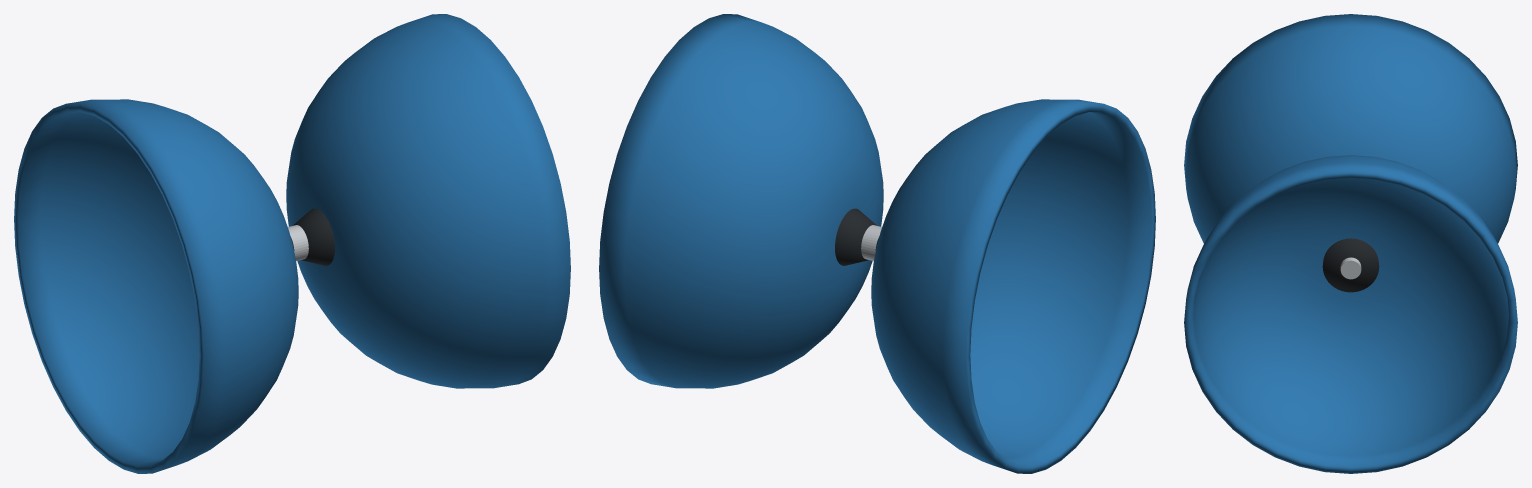
The model's file is full.glb.
The picture shows the model from 3 angles, left to right: view 1: azimuth 30°, elevation 25°; view 2: azimuth 150°, elevation 25°; view 3: azimuth 270°, elevation 25°; orthographic projection. The views are drawn at different scales.
Visible parts, largest first — view 1: Left hollow outward cup, Right hollow outward cup, Right conical hub; view 2: Left hollow outward cup, Right hollow outward cup, Right conical hub; view 3: Right hollow outward cup, Left hollow outward cup, Right conical hub, Continuous central axle.
Part boxes in pixels (x1,y1,x2,y2): Left hollow outward cup: (14,99,298,473); Right hollow outward cup: (286,14,570,388); Right conical hub: (293,208,334,265); Left hollow outward cup: (871,99,1155,473); Right hollow outward cup: (599,14,883,388); Right conical hub: (835,208,876,265); Right hollow outward cup: (1184,155,1517,473); Left hollow outward cup: (1184,14,1517,243); Right conical hub: (1322,238,1379,292); Continuous central axle: (1340,257,1361,279).
Size of the model in its own units: 0.145 by 0.13 by 0.13.
